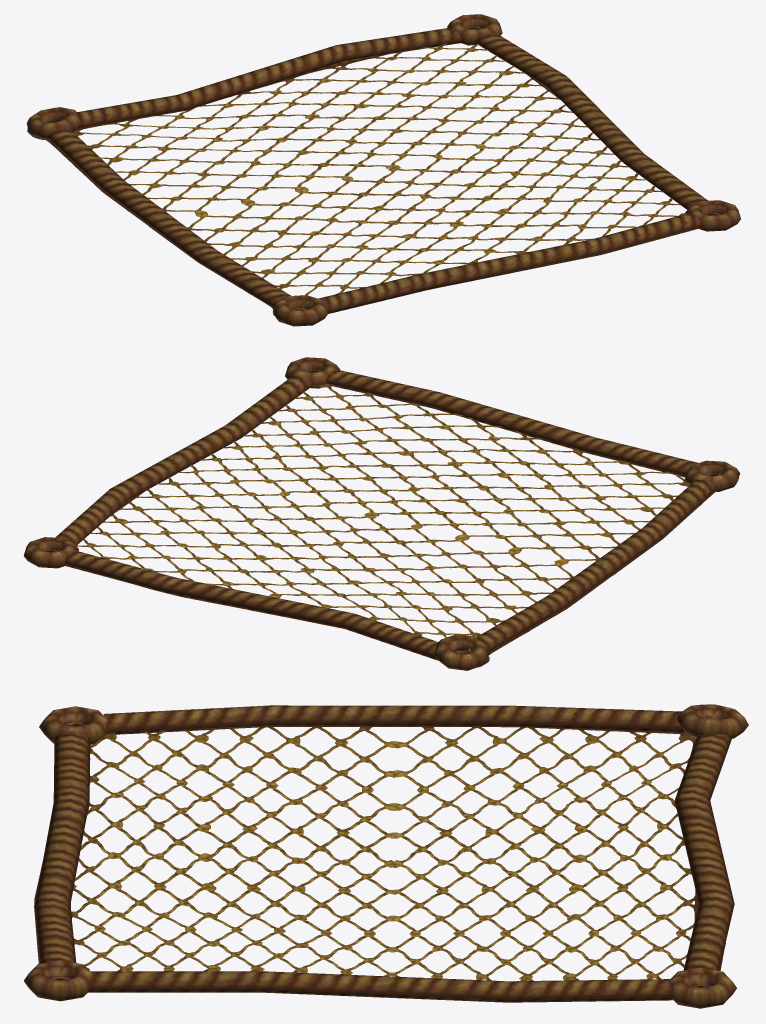
The picture shows the model from 3 angles, top to bottom: view 1: azimuth 30°, elevation 25°; view 2: azimuth 150°, elevation 25°; view 3: azimuth 270°, elevation 25°; orthographic projection. The views are drawn at different scales.
Bounding box in the file's own units: 3.83 × 0.1703 × 3.91.
Materials: 1 (1 with a texture image).
